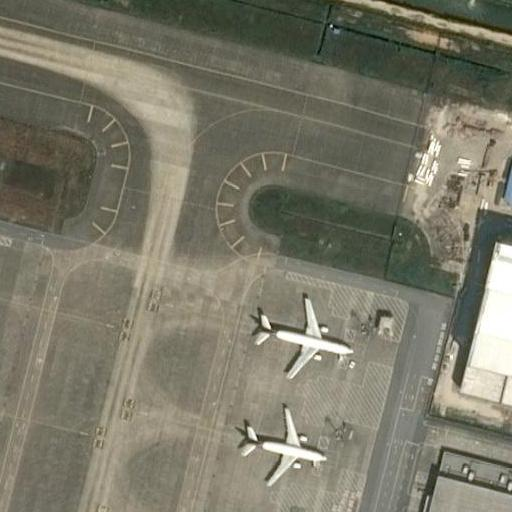Aircraft: (243, 294, 353, 378), (235, 404, 328, 486)
